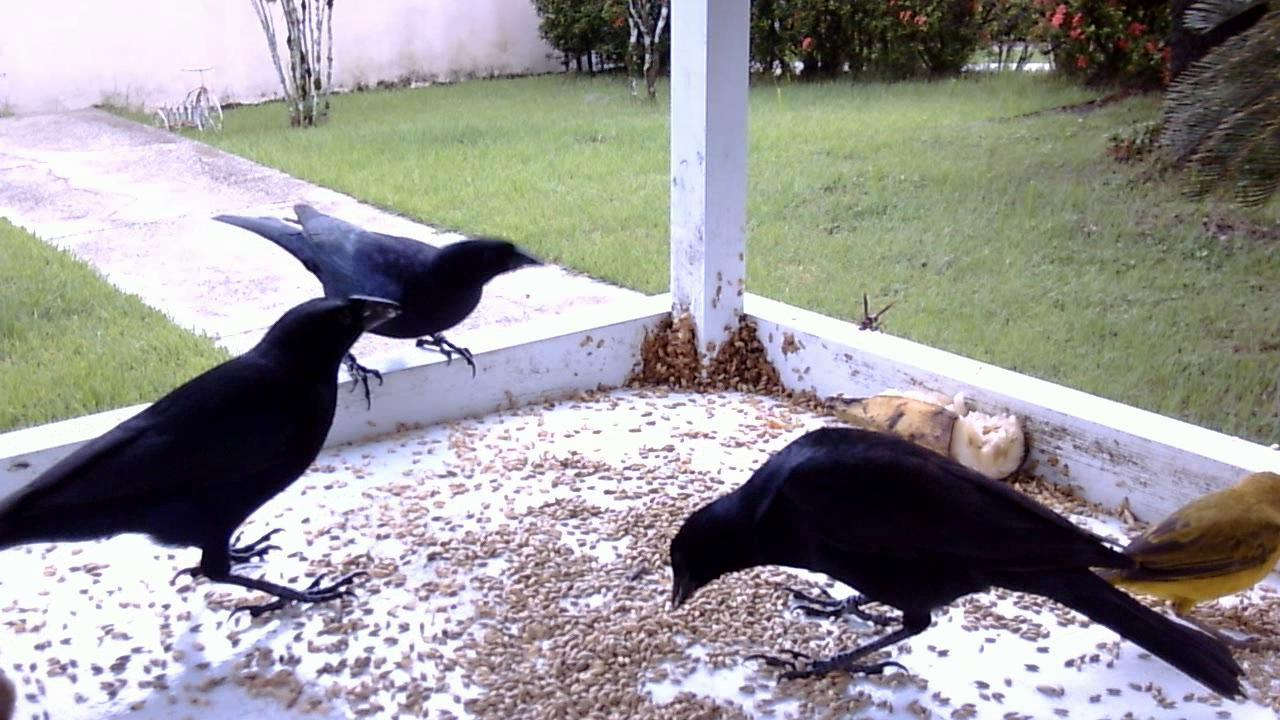canario_do_amazonas: (1097, 461, 1280, 631)
chupim: (651, 419, 1246, 704), (6, 250, 406, 641), (209, 198, 542, 408)
